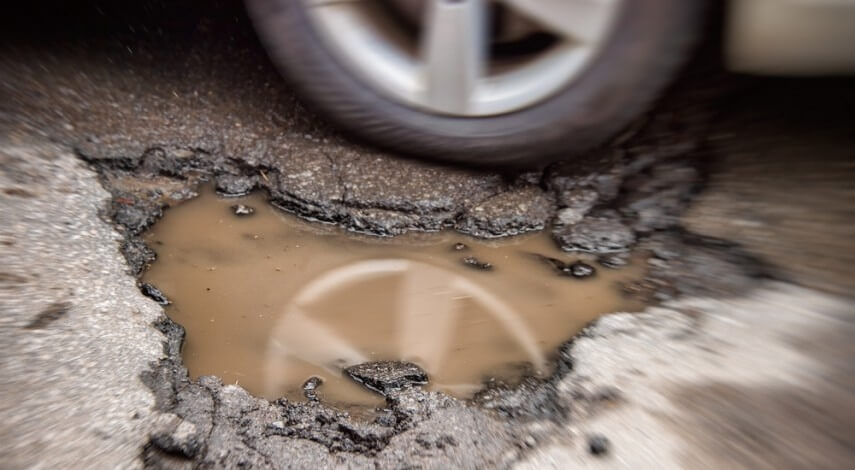pothole: (90, 132, 670, 430)
